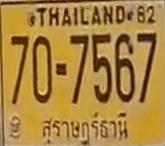0: (32, 35, 54, 105)
5: (92, 33, 112, 102)
6: (115, 33, 135, 104)
7: (136, 31, 158, 104), (70, 34, 90, 107), (10, 35, 30, 105)
SNI: (39, 111, 134, 146)
